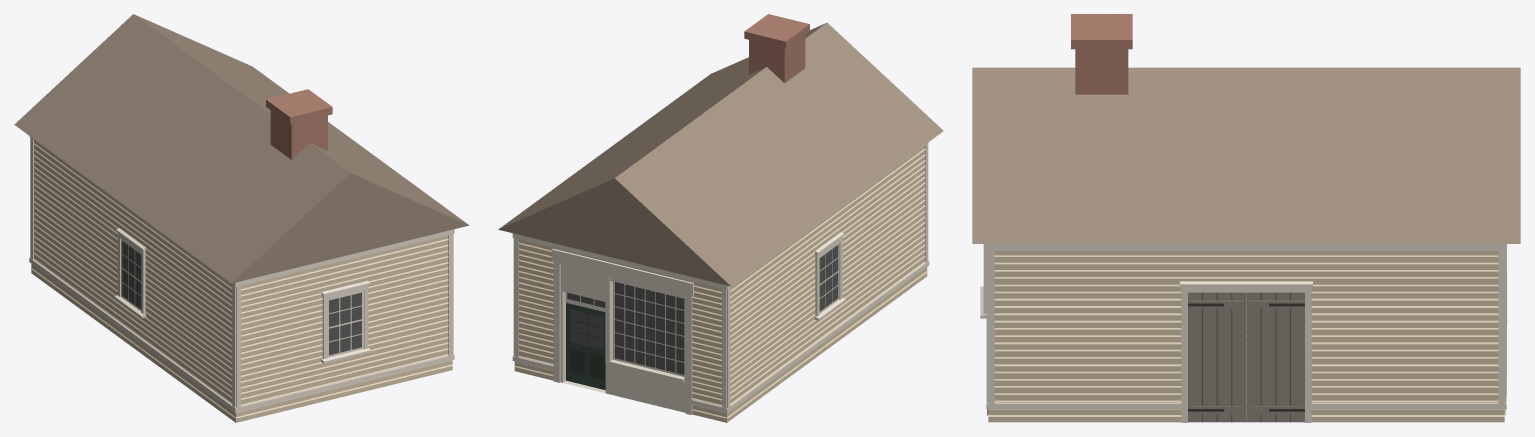
The model's file is recon_1835_core_c1_032__inferred_1835.glb.
3 renders of one model, left to right at view 1: azimuth 30°, elevation 25°; view 2: azimuth 150°, elevation 25°; view 3: azimuth 270°, elevation 25°, orthographic. The views are drawn at different scales.
Visible parts, largest first — view 1: recon_1835_core_c1_032__inferred_1835; view 2: recon_1835_core_c1_032__inferred_1835; view 3: recon_1835_core_c1_032__inferred_1835.
Boxes of the visible parts, x1=… form: recon_1835_core_c1_032__inferred_1835: x1=14, y1=14, x2=469, y2=422; recon_1835_core_c1_032__inferred_1835: x1=498, y1=14, x2=943, y2=422; recon_1835_core_c1_032__inferred_1835: x1=972, y1=14, x2=1520, y2=422.
Size of the model in its own units: 5.51 by 5.75 by 8.69.
